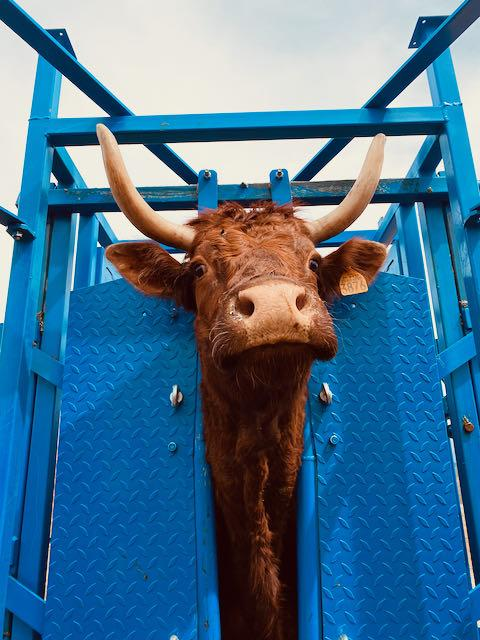muzzles: (203, 288, 343, 378)
